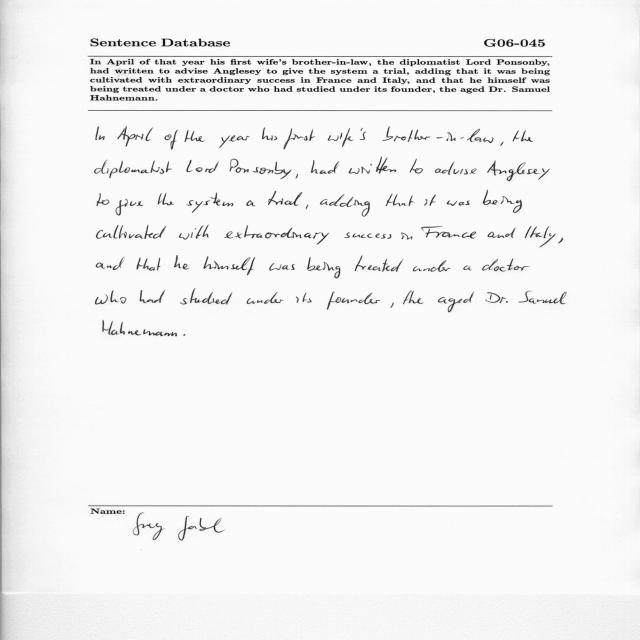word: (224, 225, 329, 245), (383, 126, 494, 143), (95, 160, 172, 178), (487, 161, 550, 182), (230, 159, 292, 179), (103, 321, 177, 337), (320, 195, 370, 217), (204, 256, 256, 275), (187, 192, 234, 213), (97, 225, 166, 239), (327, 292, 380, 310), (483, 190, 522, 213), (355, 255, 404, 272), (180, 289, 232, 305), (349, 157, 397, 174), (328, 128, 367, 147), (307, 257, 340, 279), (117, 127, 153, 147), (438, 292, 474, 312), (283, 128, 315, 149), (421, 226, 476, 238), (525, 226, 556, 247), (518, 291, 567, 304), (482, 259, 530, 272), (435, 162, 477, 175), (268, 191, 302, 206), (116, 199, 144, 216), (413, 260, 451, 272), (179, 225, 209, 240), (247, 292, 283, 304), (186, 160, 219, 173), (96, 291, 126, 305), (219, 136, 250, 149), (311, 160, 339, 174), (96, 257, 125, 270), (386, 194, 414, 206), (137, 257, 161, 271), (345, 232, 392, 239), (140, 290, 165, 303), (488, 228, 516, 238), (403, 291, 424, 304), (165, 130, 178, 150), (485, 292, 508, 303), (185, 130, 205, 142), (513, 130, 533, 142), (174, 256, 190, 270), (158, 193, 175, 206), (409, 159, 423, 174), (262, 128, 278, 141), (269, 263, 295, 271), (97, 193, 109, 206), (296, 293, 311, 303), (424, 194, 436, 206), (447, 200, 470, 206), (96, 127, 105, 140), (401, 233, 413, 240), (247, 201, 256, 207), (463, 266, 472, 270), (558, 238, 563, 244), (390, 302, 394, 308), (306, 205, 309, 210), (501, 142, 504, 146), (296, 174, 298, 179), (184, 334, 186, 336)
